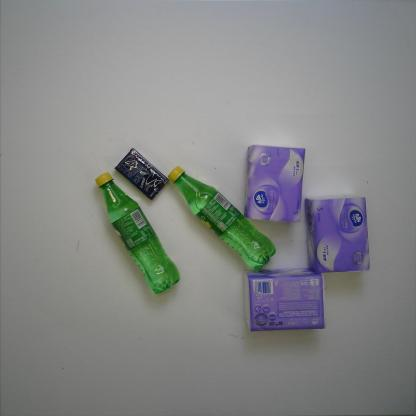Drink: (168, 166, 276, 272), (95, 172, 181, 294)
Gum: (114, 148, 170, 200)
Tissue: (304, 194, 370, 274), (244, 267, 325, 332), (244, 144, 306, 223)
